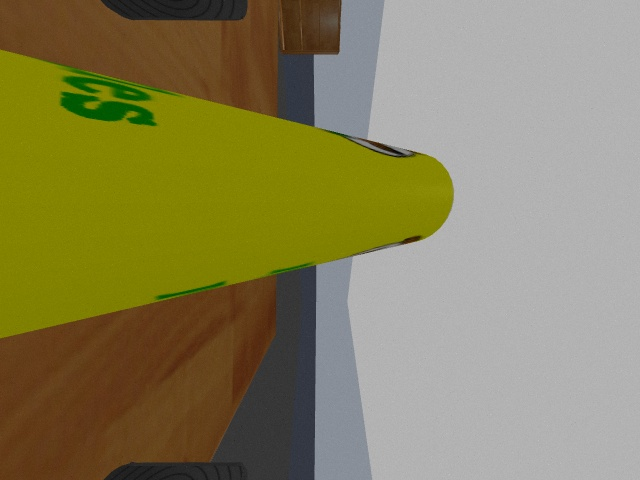chipsdose_gelb: (1, 51, 454, 339)
